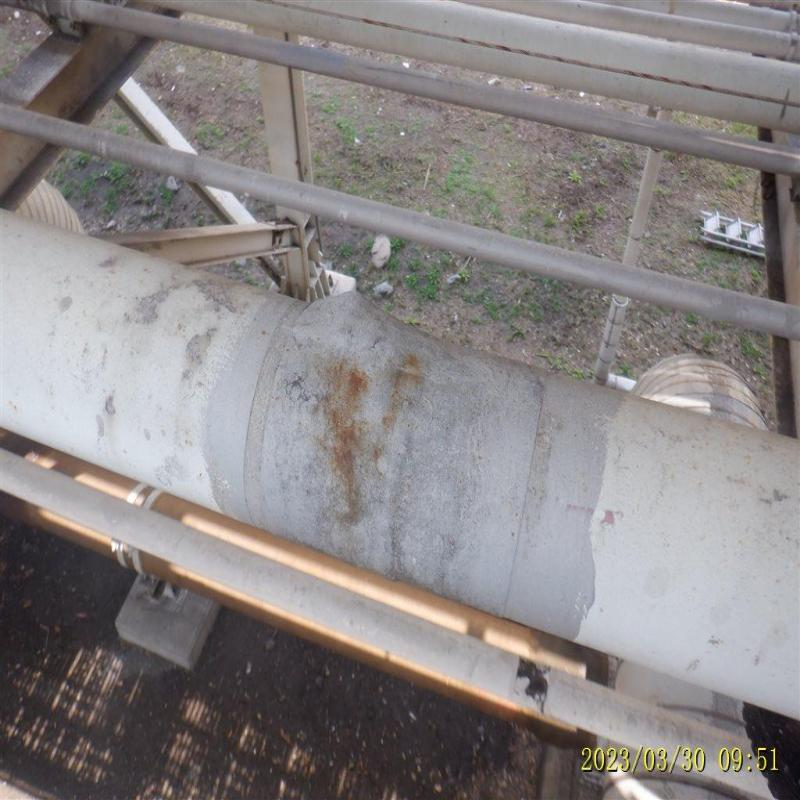corrosion: (349, 369, 362, 402)
